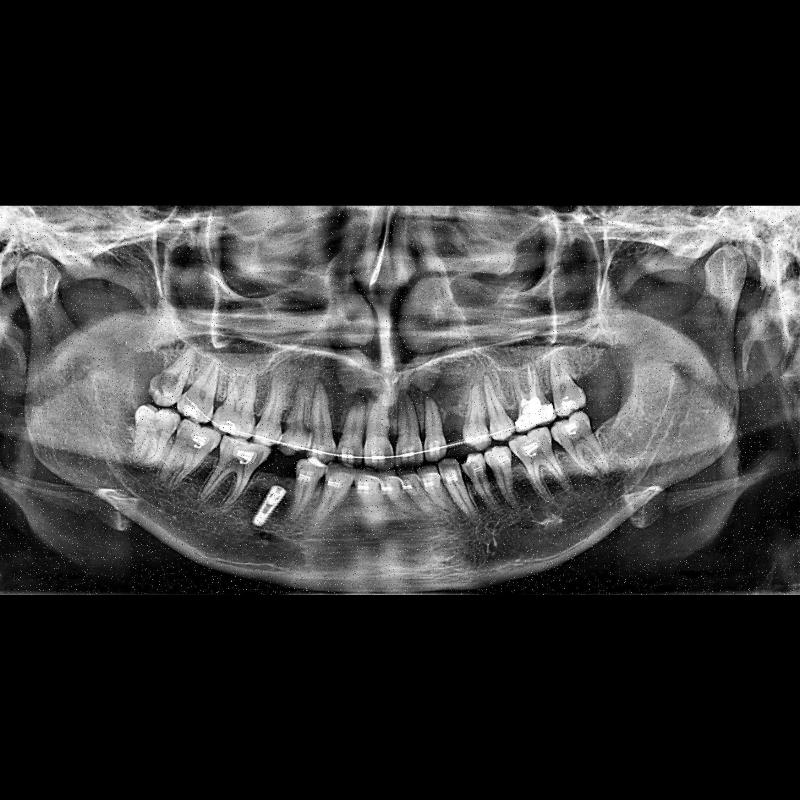osstem: (248, 476, 292, 536)
